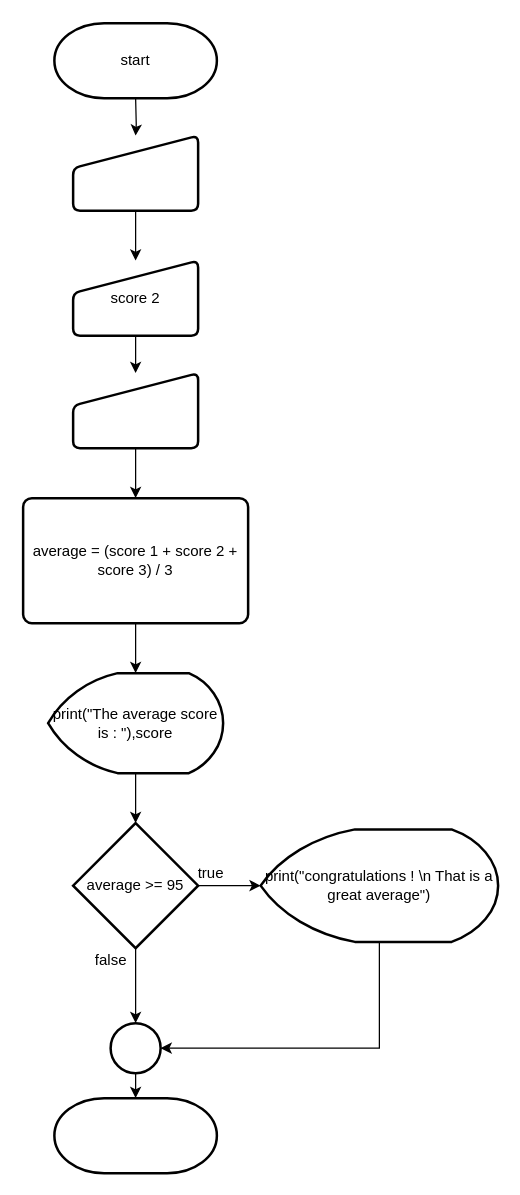
Some shapes in this 520 by 1195 pixel diagram are drawn without their labels. Here are the shapes that lost their labels. From the top down, the box of each, then its label:
(71, 134, 199, 211): score 1
(71, 371, 199, 449): score 3
(52, 1096, 218, 1174): end
